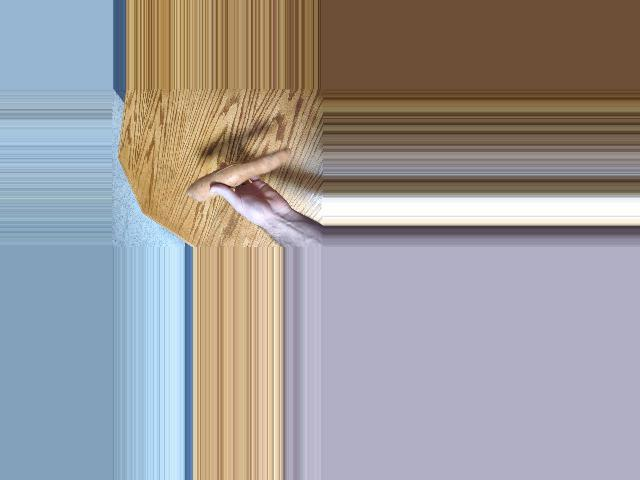sweet_potato: (183, 155, 292, 189)
